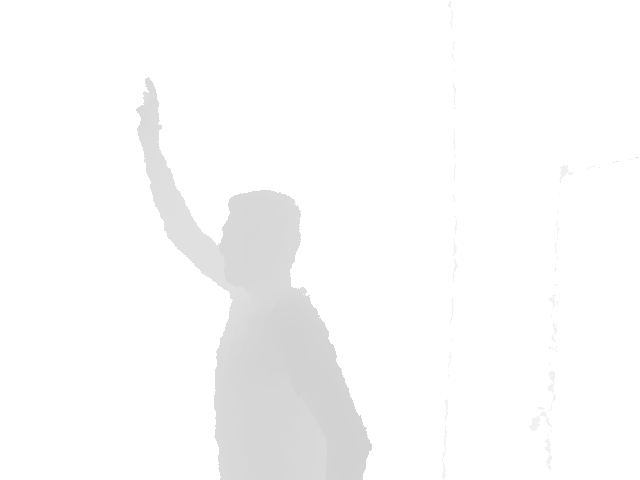hand: (135, 75, 163, 145)
head: (218, 187, 303, 287)
person: (135, 76, 373, 480)
